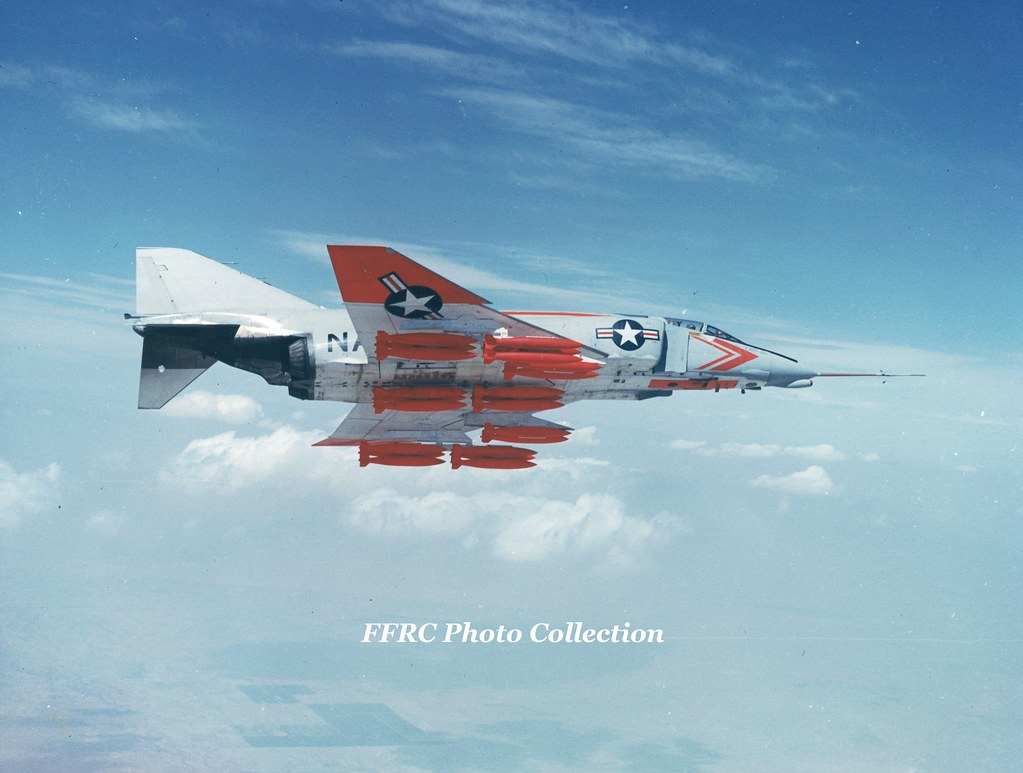F4: (123, 244, 927, 470)
